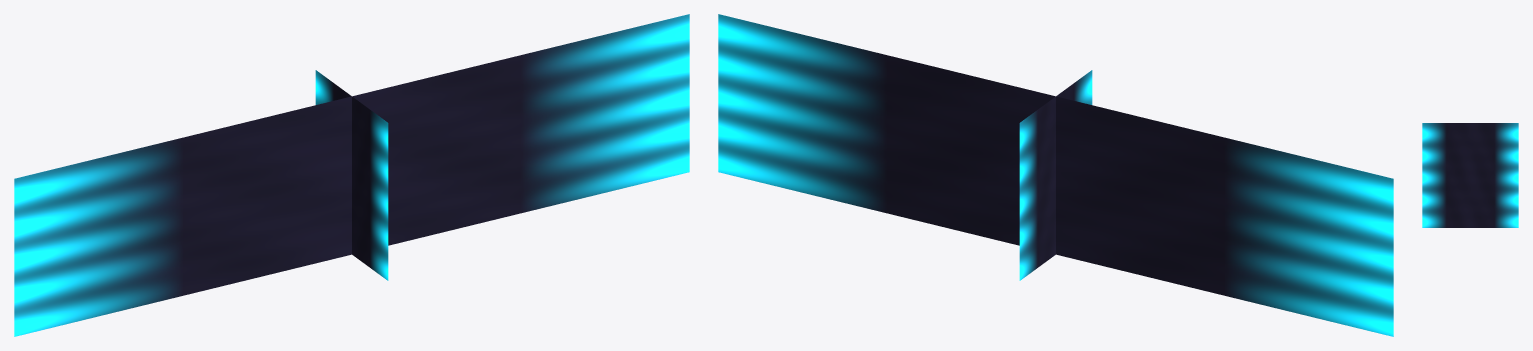
The model's file is aion2_ethereal_wings_Impostor.glb.
The picture shows the model from 3 angles, left to right: view 1: azimuth 30°, elevation 25°; view 2: azimuth 150°, elevation 25°; view 3: azimuth 270°, elevation 25°; orthographic projection. The views are drawn at different scales.
Parts seen in each view (by area): view 1: aion2_ethereal_wings_Impostor; view 2: aion2_ethereal_wings_Impostor; view 3: aion2_ethereal_wings_Impostor.
Boxes of the visible parts, x1,y1,x2,y2 form: aion2_ethereal_wings_Impostor: (14, 14, 689, 336); aion2_ethereal_wings_Impostor: (718, 14, 1393, 336); aion2_ethereal_wings_Impostor: (1422, 123, 1518, 227).
Bounding box in the file's own units: 6.83 × 1.53 × 1.27.
1 material, 1 textured.
